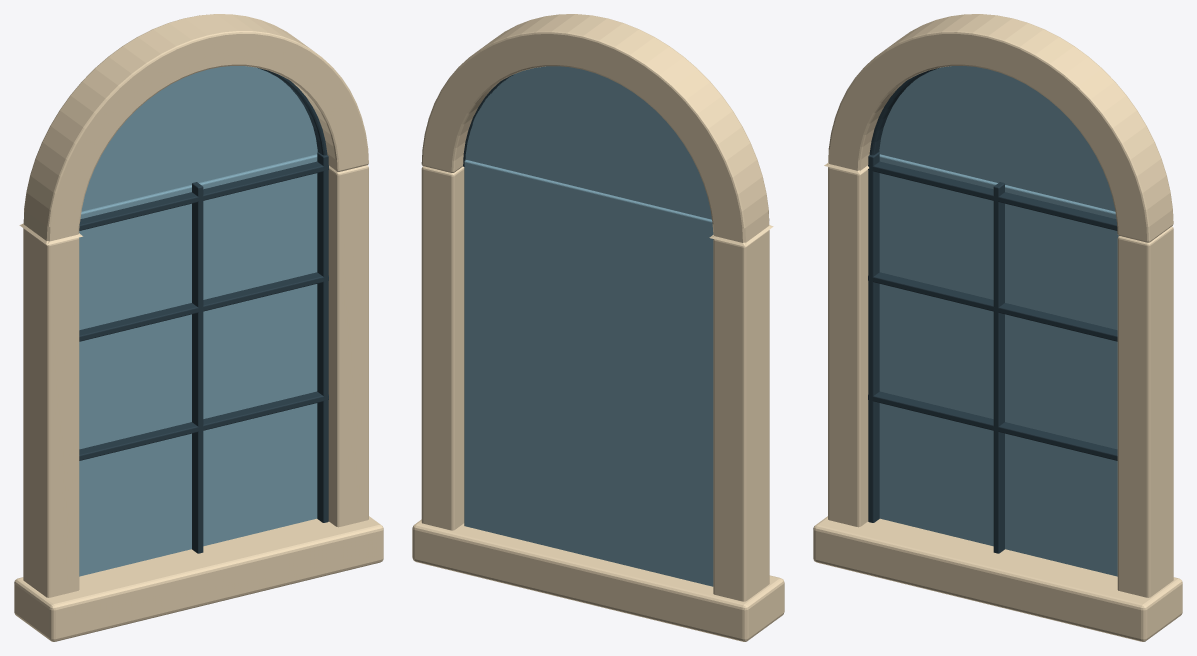
File: ArchedWindow_2m.fbx
The picture shows the model from 3 angles, left to right: view 1: azimuth 30°, elevation 25°; view 2: azimuth 150°, elevation 25°; view 3: azimuth 330°, elevation 25°; orthographic projection.
Visible parts, largest first — view 1: Glass panel, Curved stone surround, Arched glass infill, Sill, Stone jamb, Stone jamb.001, Window mullion.001, Window mullion.002, Cross bar.001, Cross bar, Cross bar.002, Inner metal arch; view 2: Glass panel, Curved stone surround, Arched glass infill, Stone jamb, Sill, Stone jamb.001; view 3: Glass panel, Curved stone surround, Arched glass infill, Stone jamb.001, Sill, Stone jamb, Window mullion.001, Window mullion, Cross bar.001, Cross bar.002, Cross bar, Inner metal arch.
Boxes of the visible parts, <box> form: Glass panel: <box>79,154,317,576</box>; Curved stone surround: <box>19,14,368,245</box>; Arched glass infill: <box>81,66,317,211</box>; Sill: <box>14,516,383,641</box>; Stone jamb: <box>23,228,79,597</box>; Stone jamb.001: <box>328,165,368,527</box>; Window mullion.001: <box>192,182,203,553</box>; Window mullion.002: <box>317,152,328,522</box>; Cross bar.001: <box>79,272,328,341</box>; Cross bar: <box>79,391,328,460</box>; Cross bar.002: <box>79,161,328,230</box>; Inner metal arch: <box>257,67,327,155</box>; Glass panel: <box>464,160,713,586</box>; Curved stone surround: <box>421,14,773,246</box>; Arched glass infill: <box>465,66,711,219</box>; Stone jamb: <box>713,230,769,601</box>; Sill: <box>412,519,784,641</box>; Stone jamb.001: <box>421,166,464,530</box>; Glass panel: <box>879,154,1118,576</box>; Curved stone surround: <box>824,14,1173,242</box>; Arched glass infill: <box>879,66,1115,211</box>; Stone jamb.001: <box>1117,226,1173,597</box>; Sill: <box>813,516,1182,641</box>; Stone jamb: <box>828,167,868,527</box>; Window mullion.001: <box>993,182,1004,553</box>; Window mullion: <box>868,152,879,522</box>; Cross bar.001: <box>868,272,1117,341</box>; Cross bar.002: <box>868,161,1117,230</box>; Cross bar: <box>868,391,1117,460</box>; Inner metal arch: <box>869,67,939,155</box>.
Bounding box in the file's own units: 2.05 × 3.29 × 0.42.
